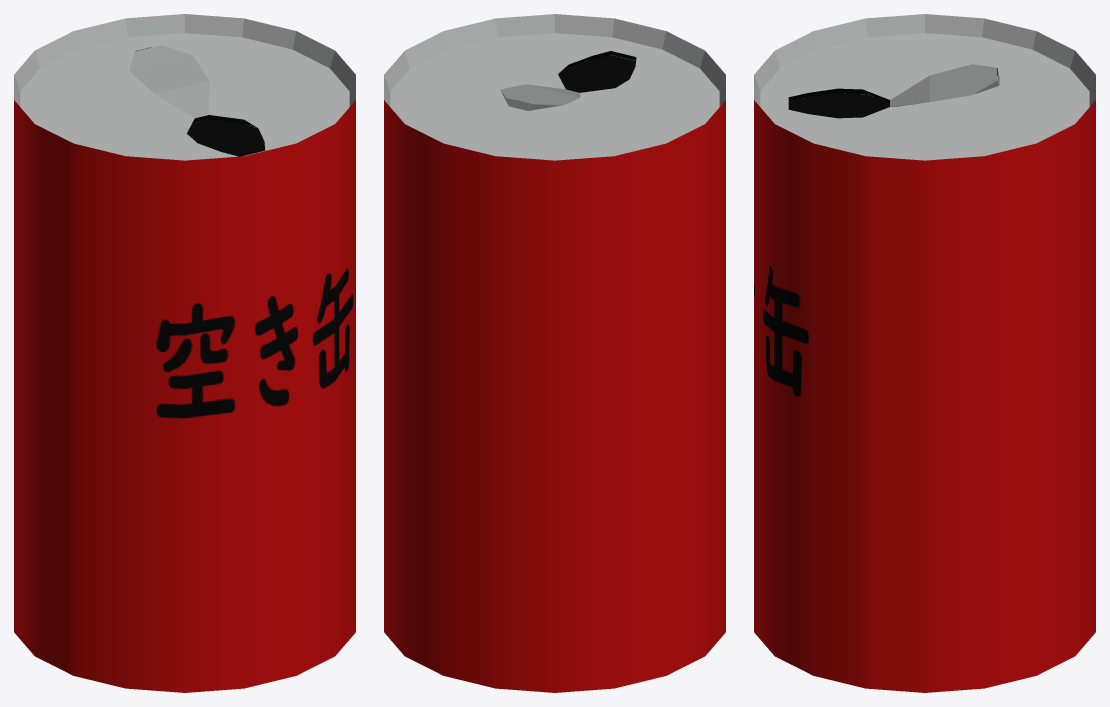
Rendered from empty can.FBX.
3 views of the same model, side by side, from view 1: azimuth 30°, elevation 25°; view 2: azimuth 150°, elevation 25°; view 3: azimuth 270°, elevation 25° (orthographic).
Parts seen in each view (by area): view 1: Cylinder001; view 2: Cylinder001; view 3: Cylinder001.
Part boxes in pixels (x1=…): Cylinder001: x1=14, y1=14, x2=355, y2=692; Cylinder001: x1=384, y1=14, x2=725, y2=692; Cylinder001: x1=754, y1=14, x2=1095, y2=692.
Bounding box in the file's own units: 13.64 × 23.65 × 13.43.
1 material, 1 textured.
